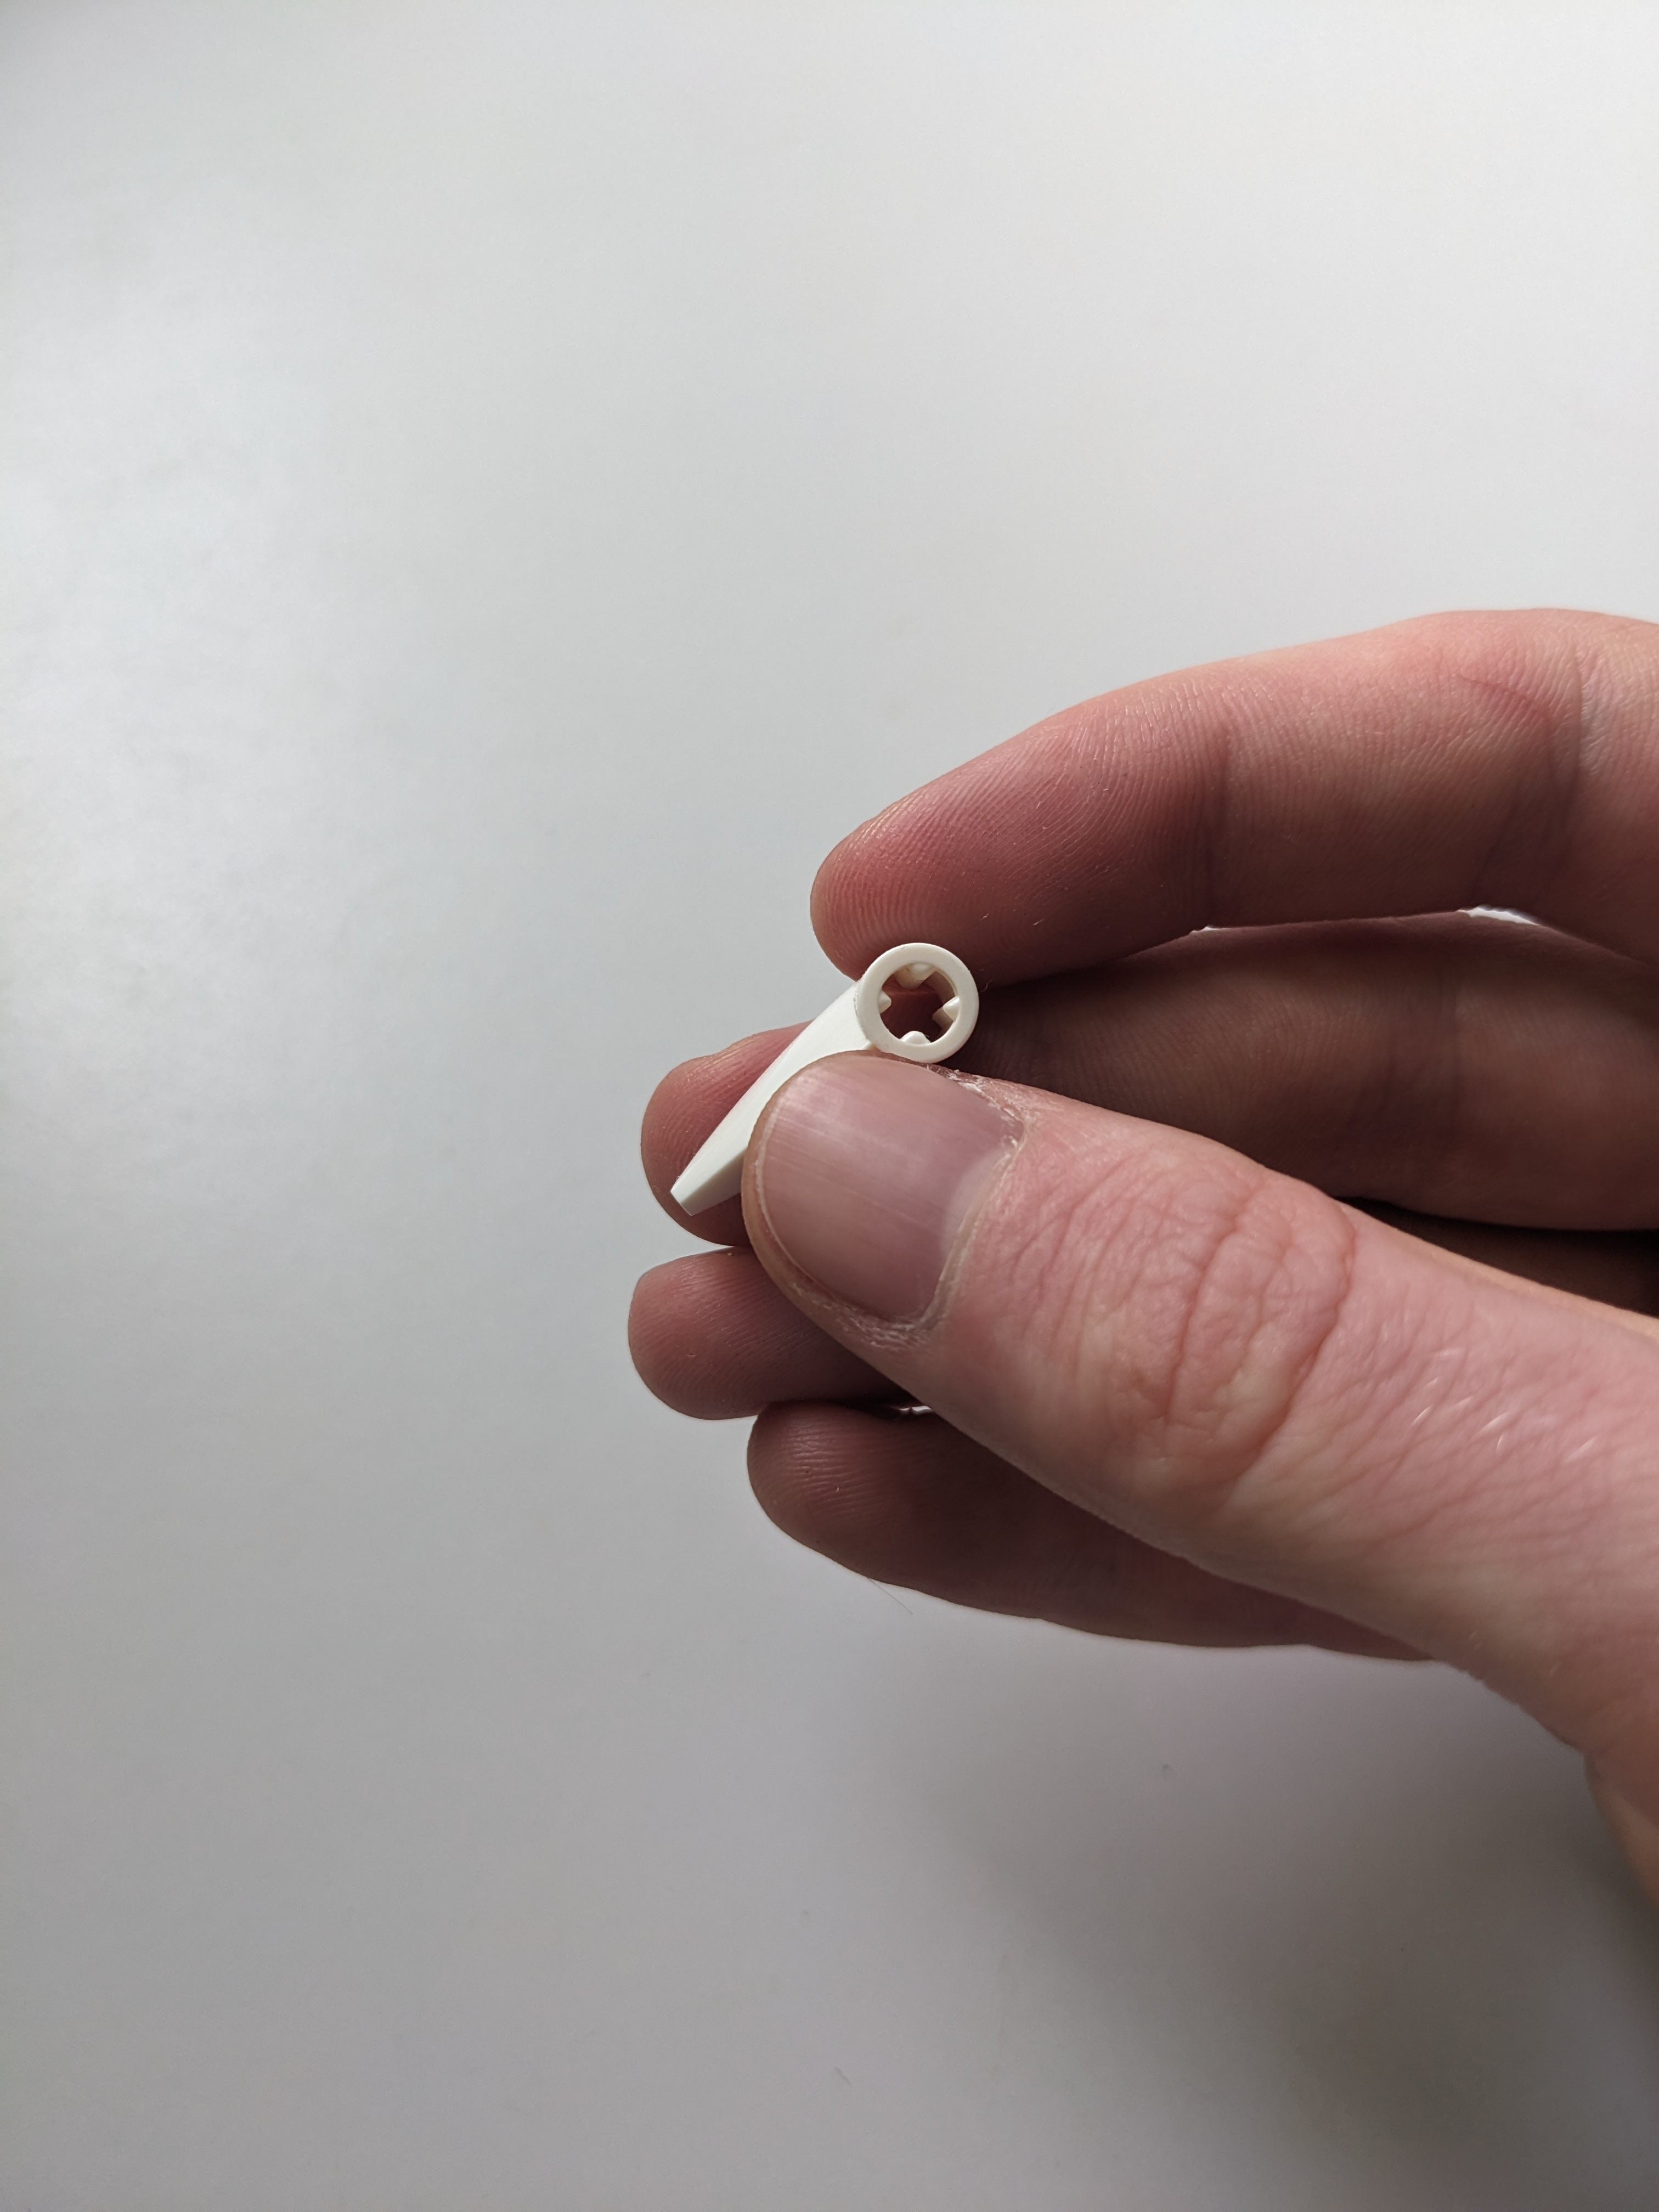Kappe: (645, 923, 1004, 1223)
